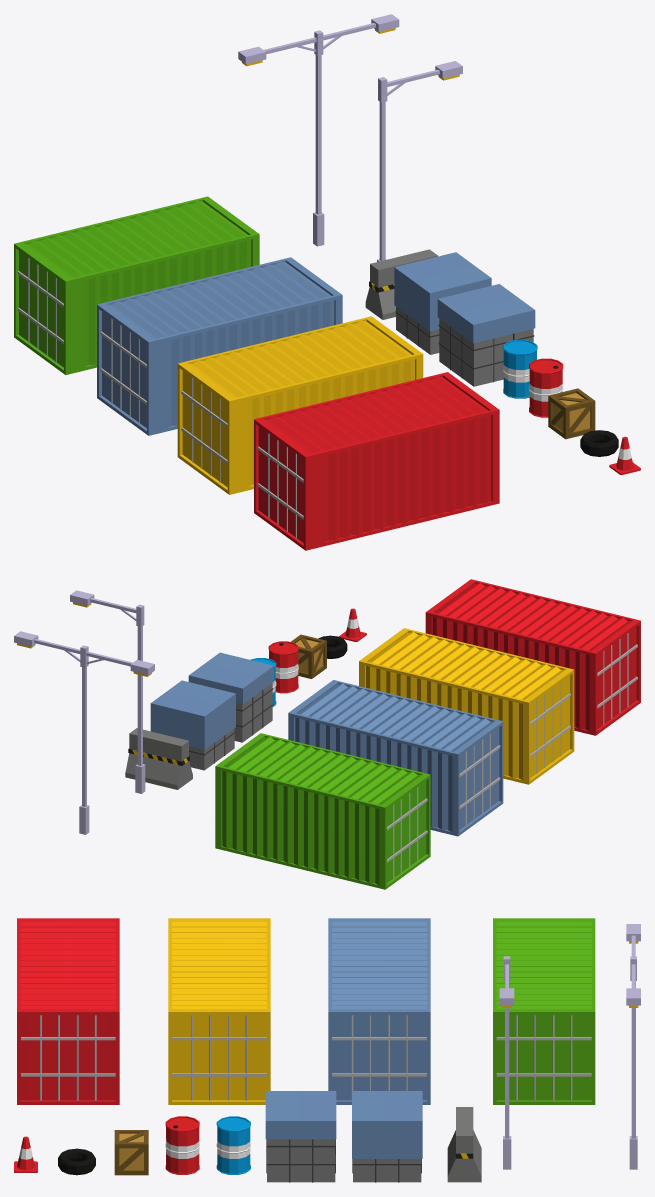
Rendered from asset pack 1.fbx.
3 renders of one model, top to bottom at view 1: azimuth 30°, elevation 25°; view 2: azimuth 150°, elevation 25°; view 3: azimuth 270°, elevation 25°, orthographic. The views are drawn at different scales.
Parts seen in each view (by area): view 1: Cube.007, Cube.009, Cube.008, Cube.006, Cube.002, Cube.004, Cube.005, Cube.003, Cube.001, Cube, Cylinder.001, Cylinder (+1 smaller); view 2: Cube.009, Cube.008, Cube.006, Cube.007, Cube.004, Cube.002, Cube, Cube.005, Cube.003, Cylinder, Cube.001, Cylinder.002; view 3: Cube.007, Cube.006, Cube.009, Cube.008, Cube.002, Cube.004, Cube, Cylinder, Cylinder.001, Cube.005, Cube.001, Cube.003 (+2 smaller).
Boxes of the visible parts, x1=… form: Cube.007: x1=254, y1=372, x2=499, y2=550; Cube.009: x1=14, y1=196, x2=259, y2=374; Cube.008: x1=97, y1=257, x2=342, y2=435; Cube.006: x1=177, y1=316, x2=423, y2=494; Cube.002: x1=437, y1=284, x2=535, y2=386; Cube.004: x1=394, y1=252, x2=491, y2=354; Cube.005: x1=238, y1=14, x2=399, y2=246; Cube.003: x1=377, y1=61, x2=462, y2=261; Cube.001: x1=548, y1=388, x2=595, y2=439; Cube: x1=365, y1=249, x2=437, y2=319; Cylinder.001: x1=503, y1=339, x2=537, y2=398; Cylinder: x1=529, y1=358, x2=563, y2=417; Cube.009: x1=215, y1=733, x2=430, y2=889; Cube.008: x1=288, y1=680, x2=503, y2=836; Cube.006: x1=359, y1=628, x2=574, y2=784; Cube.007: x1=425, y1=579, x2=640, y2=735; Cube.004: x1=150, y1=680, x2=235, y2=770; Cube.002: x1=188, y1=652, x2=273, y2=742; Cube: x1=125, y1=728, x2=192, y2=789; Cube.005: x1=14, y1=631, x2=154, y2=834; Cube.003: x1=70, y1=590, x2=145, y2=793; Cylinder: x1=268, y1=641, x2=298, y2=693; Cube.001: x1=291, y1=634, x2=326, y2=678; Cylinder.002: x1=318, y1=635, x2=347, y2=658; Cube.007: x1=17, y1=918, x2=119, y2=1104; Cube.006: x1=168, y1=918, x2=270, y2=1104; Cube.009: x1=493, y1=918, x2=595, y2=1104; Cube.008: x1=328, y1=918, x2=430, y2=1104; Cube.002: x1=265, y1=1091, x2=336, y2=1182; Cube.004: x1=352, y1=1091, x2=422, y2=1182; Cube: x1=447, y1=1107, x2=481, y2=1182; Cylinder: x1=165, y1=1116, x2=199, y2=1174; Cylinder.001: x1=216, y1=1116, x2=250, y2=1174; Cube.005: x1=626, y1=924, x2=640, y2=1169; Cube.001: x1=114, y1=1130, x2=148, y2=1175; Cube.003: x1=499, y1=956, x2=514, y2=1169.
Bounding box in the file's own units: 2686 × 1358 × 3670.
Materials: 1 (1 with a texture image).
